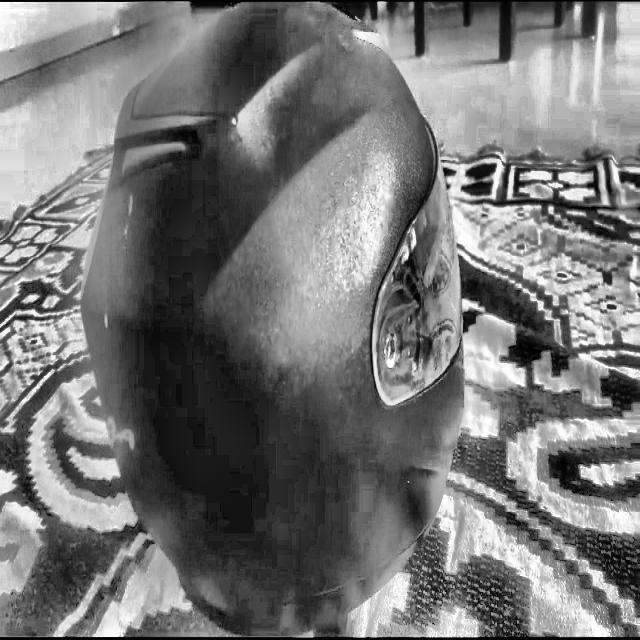Helmet: (80, 0, 468, 640)
